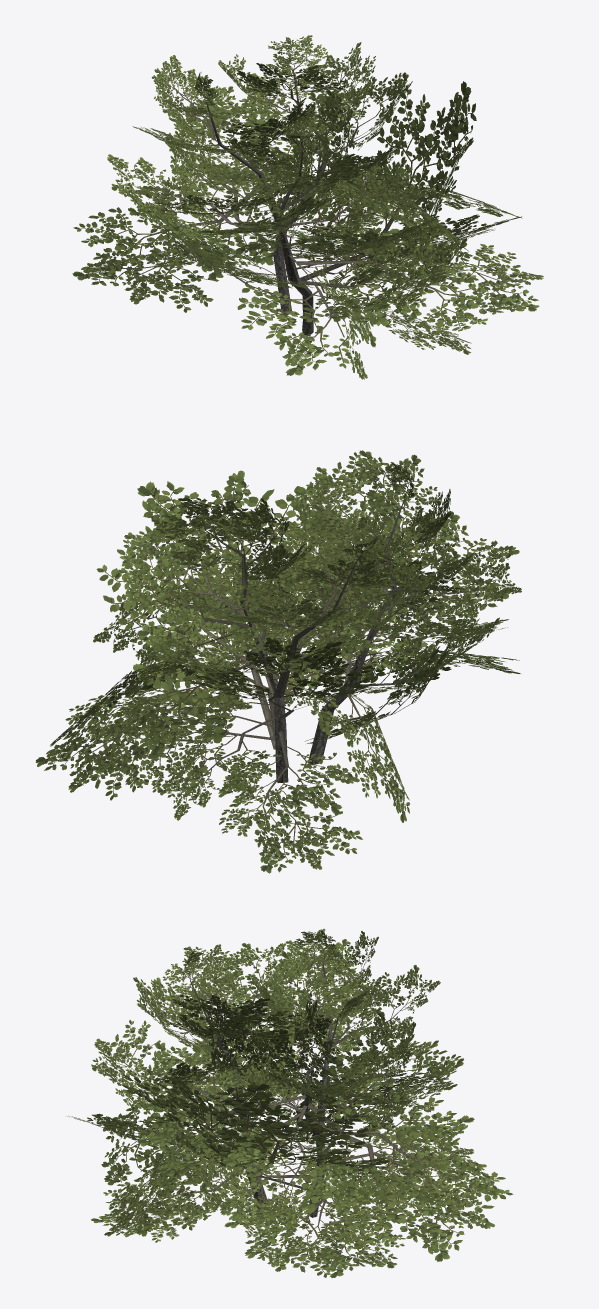
Rendered from runtime-saltbush-3.glb.
3 views of the same model, one above another, from view 1: azimuth 30°, elevation 25°; view 2: azimuth 150°, elevation 25°; view 3: azimuth 270°, elevation 25° (orthographic). The views are drawn at different scales.
Parts seen in each view (by area): view 1: Bush-05_17; view 2: Bush-05_17; view 3: Bush-05_17.
Part boxes in pixels (x1=…): Bush-05_17: x1=72, y1=35, x2=543, y2=379; Bush-05_17: x1=35, y1=450, x2=521, y2=873; Bush-05_17: x1=67, y1=928, x2=513, y2=1277.
Bounding box in the file's own units: 4.92 × 2.61 × 5.38.
6 materials, 6 textured.
